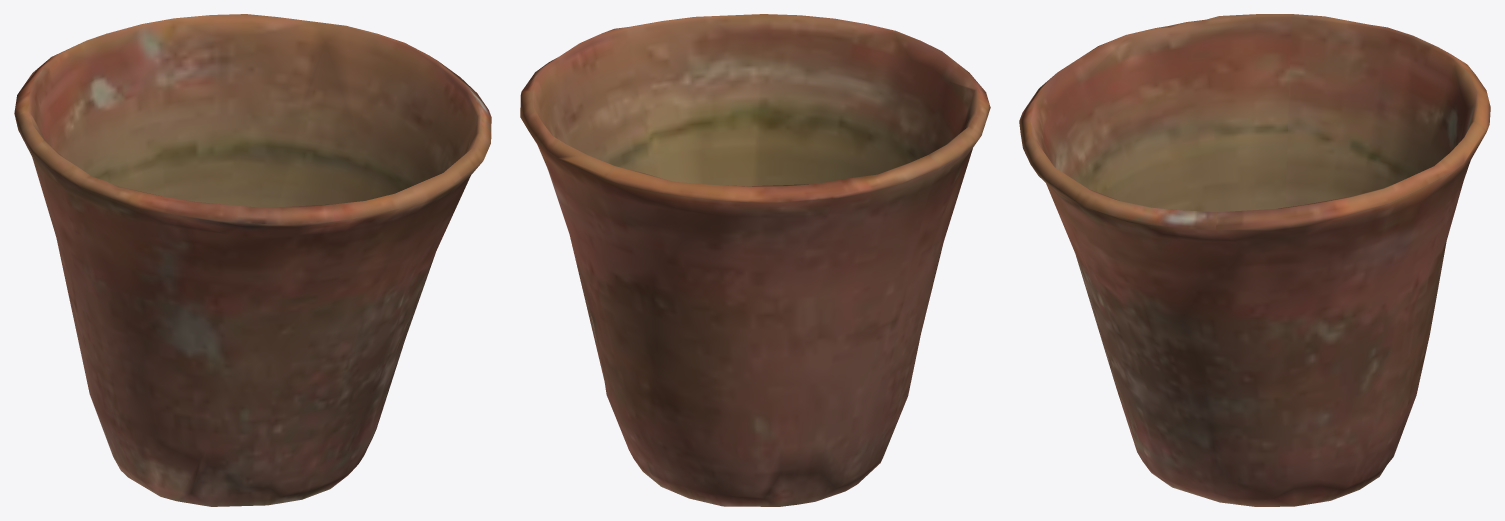
Rendered from planter_pot_clay.lite.glb.
3 views of the same model, side by side, from view 1: azimuth 30°, elevation 25°; view 2: azimuth 150°, elevation 25°; view 3: azimuth 270°, elevation 25° (orthographic).
Parts seen in each view (by area): view 1: planter_pot_clay; view 2: planter_pot_clay; view 3: planter_pot_clay.
Boxes of the visible parts, left/top/right/bottom form: planter_pot_clay: left=14, top=14, right=491, bottom=506; planter_pot_clay: left=520, top=14, right=990, bottom=506; planter_pot_clay: left=1019, top=14, right=1490, bottom=506.
Size of the model in its own units: 0.266 by 0.2218 by 0.2635.
Materials: 1 (1 with a texture image).
